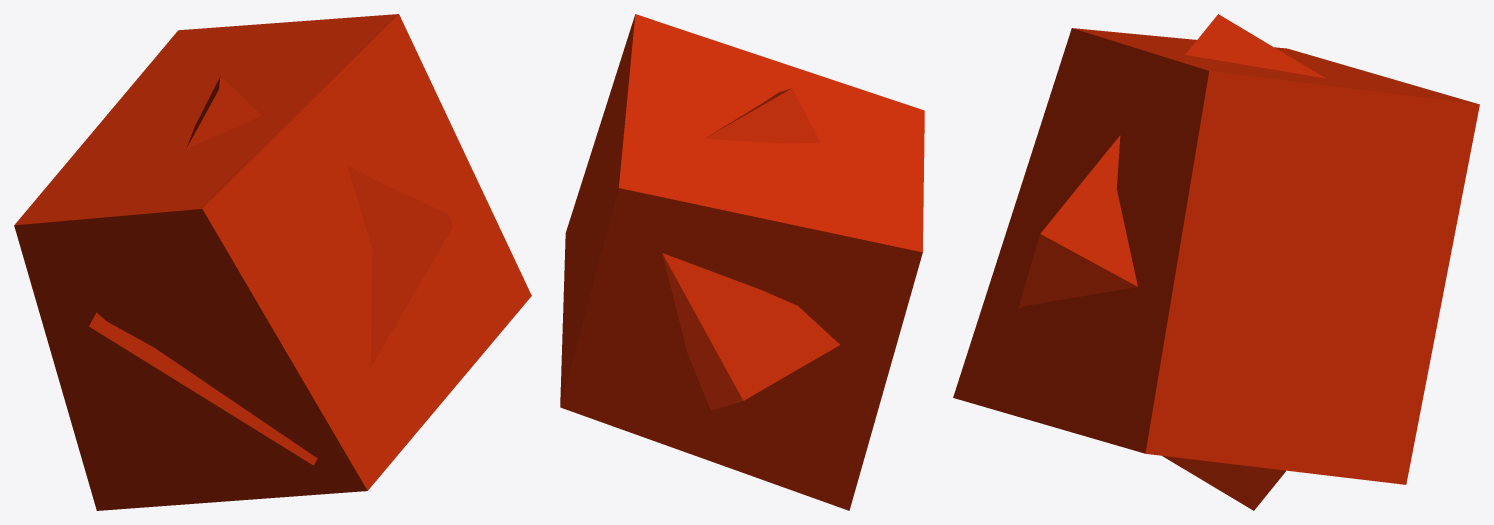
The model's file is Fire_mesh_effect.fbx.
3 views of the same model, side by side, from view 1: azimuth 30°, elevation 25°; view 2: azimuth 150°, elevation 25°; view 3: azimuth 270°, elevation 25° (orthographic). The views are drawn at different scales.
Visible parts, largest first — view 1: fire_01, fire_02; view 2: fire_01, fire_02; view 3: fire_01, fire_02.
Boxes of the visible parts, left/top/right/bottom form: fire_01: left=14, top=14, right=531, bottom=510; fire_02: left=88, top=76, right=452, bottom=465; fire_01: left=560, top=14, right=924, bottom=510; fire_02: left=662, top=88, right=839, bottom=410; fire_01: left=953, top=28, right=1479, bottom=484; fire_02: left=1018, top=14, right=1325, bottom=510.
Bounding box in the file's own units: 137 × 131 × 121.
